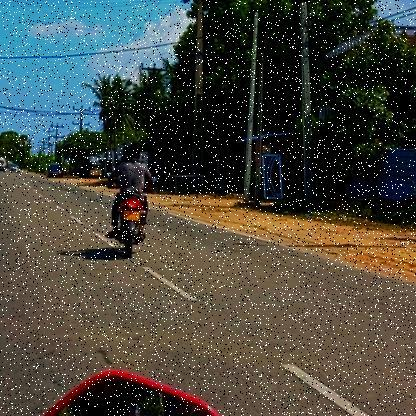motorcycle: (102, 194, 154, 262)
